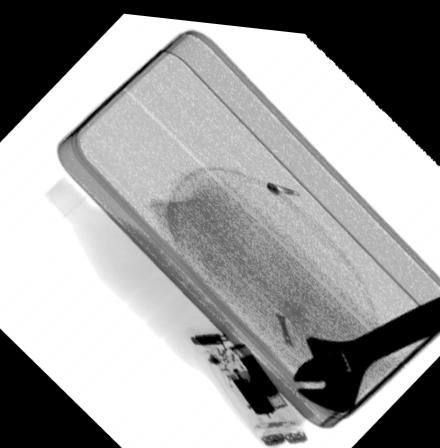Wrench: (284, 285, 440, 407)
